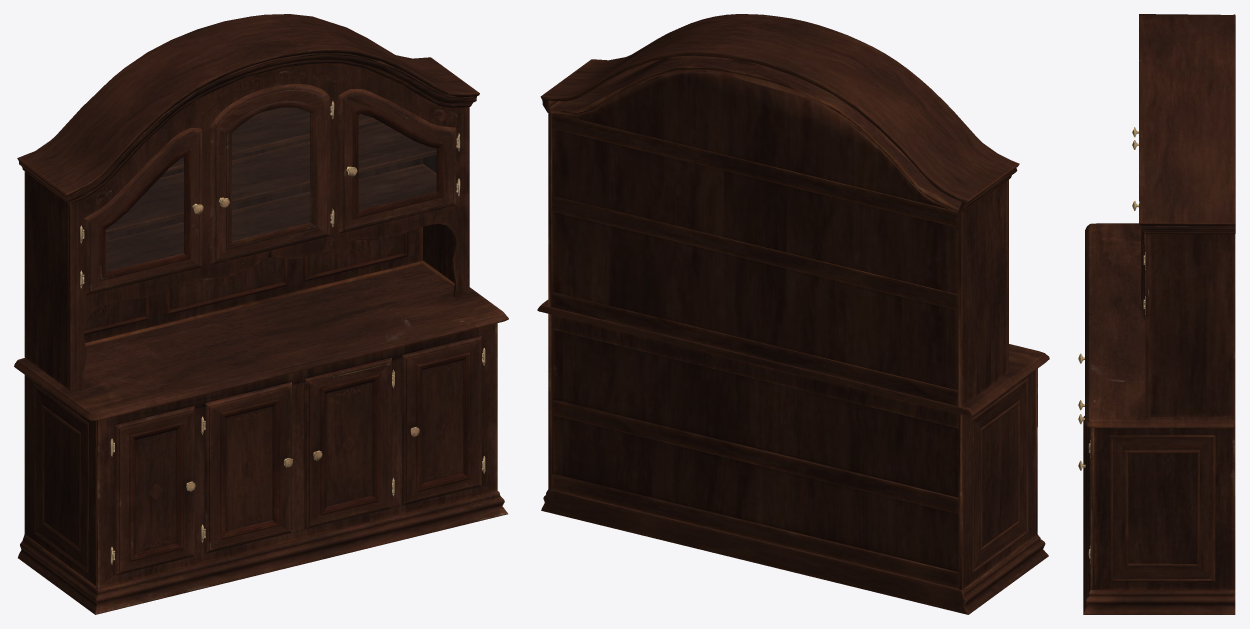
File: vintage_cabinet_01_lod2.glb
3 renders of one model, left to right at view 1: azimuth 30°, elevation 25°; view 2: azimuth 150°, elevation 25°; view 3: azimuth 270°, elevation 25°, orthographic. The views are drawn at different scales.
Parts seen in each view (by area): view 1: vintage_cabinet_01_body, vintage_cabinet_01_door_03, vintage_cabinet_01_door_01, vintage_cabinet_01_door_04, vintage_cabinet_01_door_07, vintage_cabinet_01_door_06, vintage_cabinet_01_door_05, vintage_cabinet_01_door_02; view 2: vintage_cabinet_01_body; view 3: vintage_cabinet_01_body, vintage_cabinet_01_door_02, vintage_cabinet_01_door_04.
Part boxes in pixels (box(x1,y1,x2,y2)): vintage_cabinet_01_body: box(14, 14, 508, 614); vintage_cabinet_01_door_03: box(210, 83, 332, 264); vintage_cabinet_01_door_01: box(82, 128, 203, 295); vintage_cabinet_01_door_04: box(338, 89, 458, 233); vintage_cabinet_01_door_07: box(304, 358, 392, 529); vintage_cabinet_01_door_06: box(204, 382, 292, 553); vintage_cabinet_01_door_05: box(113, 406, 195, 575); vintage_cabinet_01_door_02: box(402, 336, 483, 505); vintage_cabinet_01_body: box(537, 14, 1049, 614); vintage_cabinet_01_body: box(1083, 14, 1235, 614); vintage_cabinet_01_door_02: box(1078, 426, 1090, 572); vintage_cabinet_01_door_04: box(1132, 201, 1145, 319).
Size of the model in its own units: 2.02 by 2.24 by 0.6698.
Materials: 3 (2 with a texture image).
